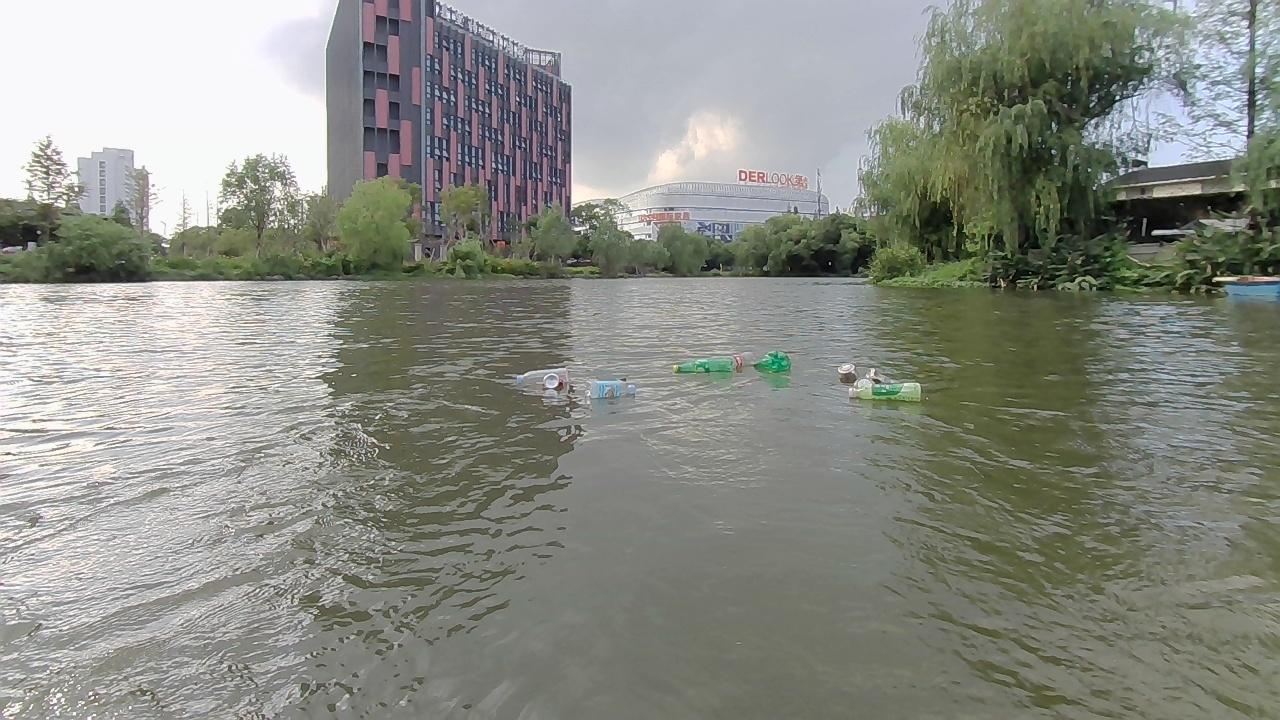bottle: (849, 378, 921, 400), (667, 357, 733, 377), (706, 346, 761, 370), (587, 377, 637, 397), (514, 368, 568, 385), (863, 365, 901, 383), (761, 349, 790, 372), (539, 372, 561, 392), (833, 362, 856, 379)
